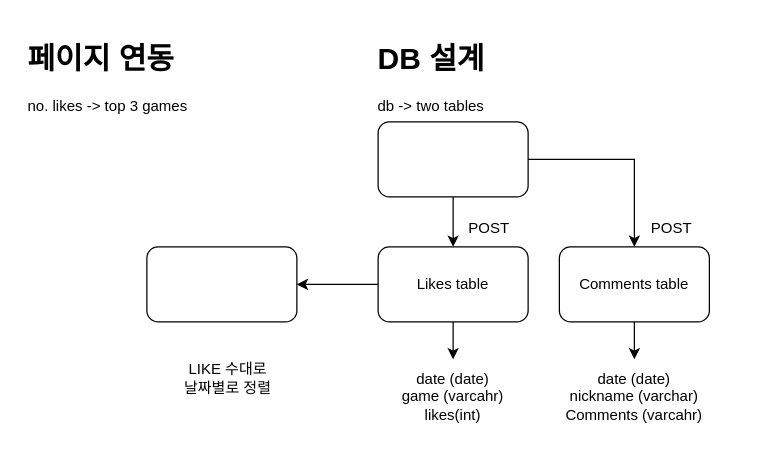
The diagram is 761 pixels wide and 455 high, and some of its shapes have lost their labels. The box of each missing label's shape, as (x1, y1, x2, y2) in pixels:
games: (377, 121, 528, 197)
TOP 3 games: (146, 246, 297, 322)
